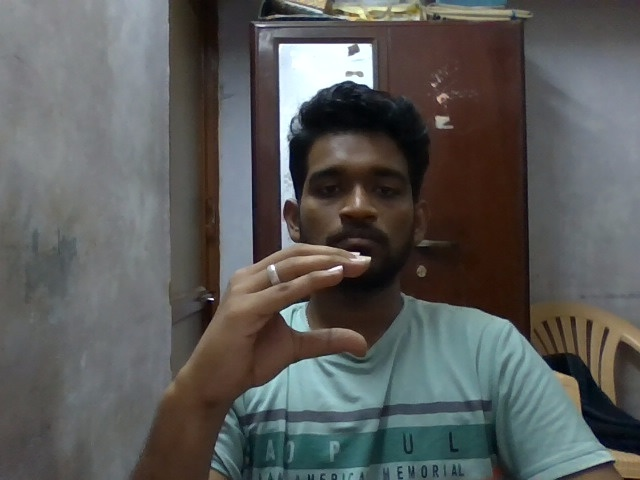C: (178, 239, 373, 410)
